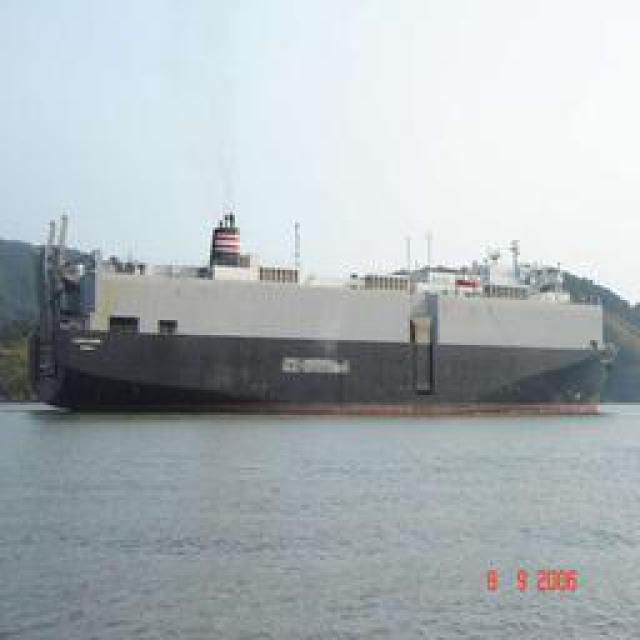Ship: (11, 235, 629, 413)
